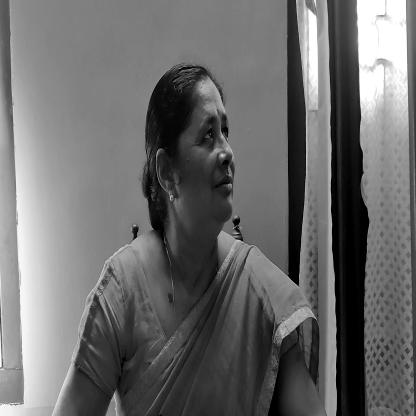Distracted: (153, 59, 239, 232)
